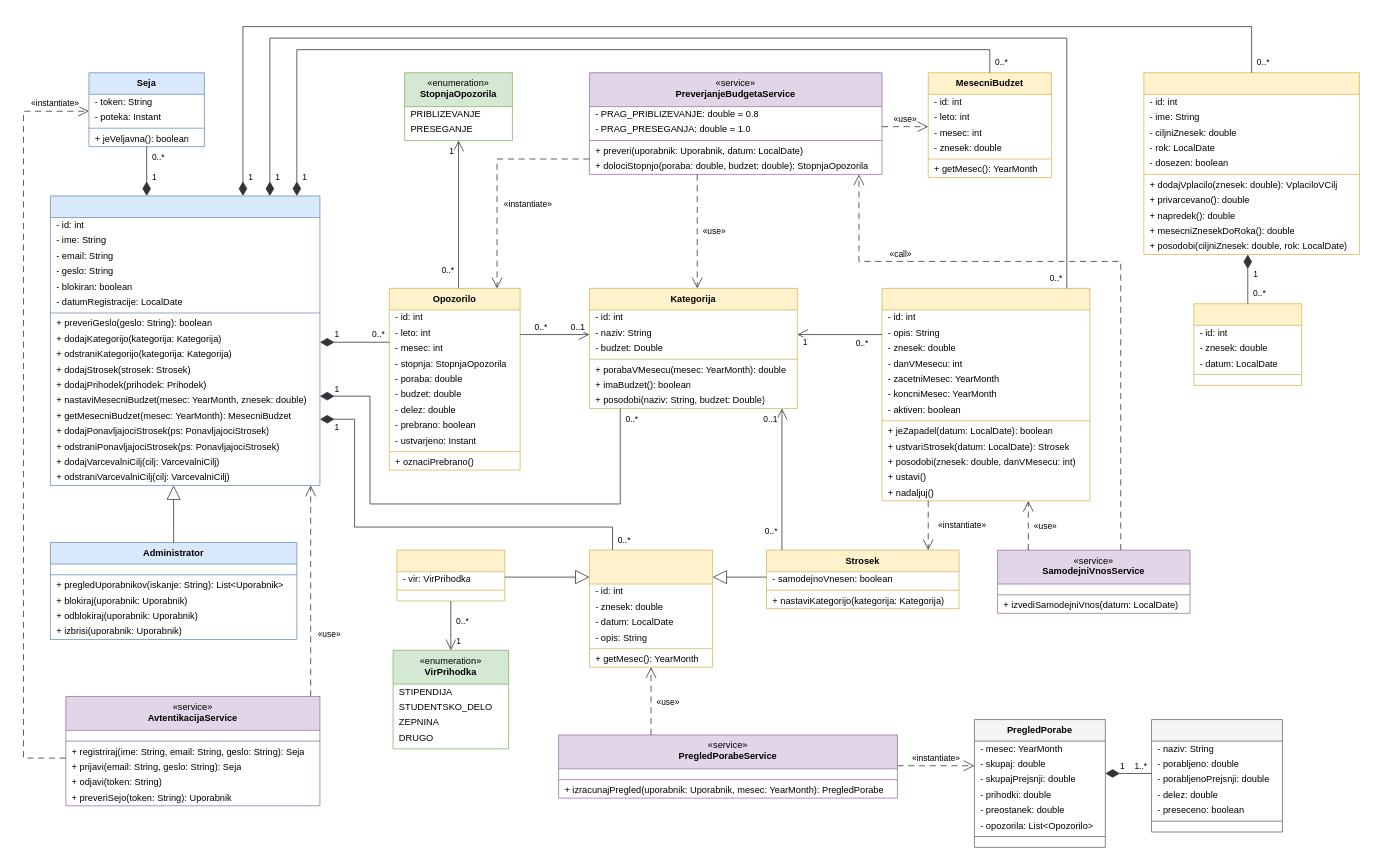
Some shapes in this 1373 by 861 pixel diagram are drawn without their labels. The shapes that lost their labels are listed below. From the top down, each one's box as (x1, y1, x2, y2) in pixels, then its label:
(1143, 72, 1359, 254): VarcevalniCilj
(50, 195, 320, 485): Uporabnik
(1193, 303, 1302, 385): VplaciloVCilj
(881, 288, 1090, 501): PonavljajociStrosek
(396, 549, 505, 601): Prihodek
(589, 549, 713, 667): «abstract» Transakcija
(1151, 719, 1282, 832): PostavkaPregleda
